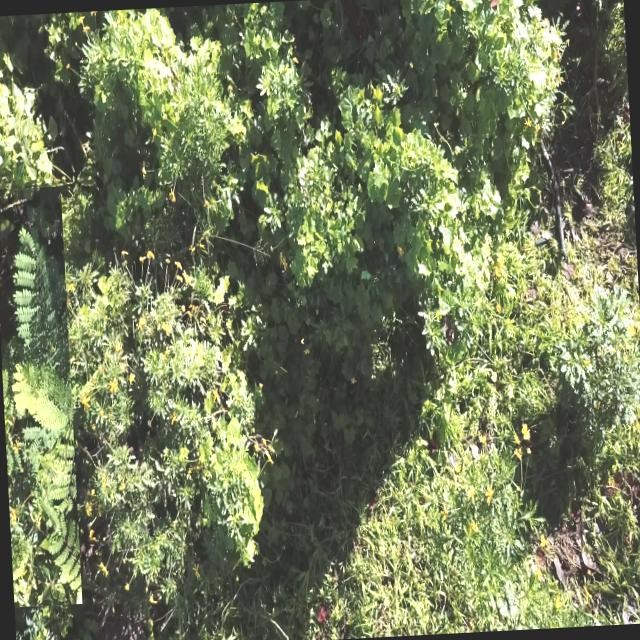Mysore-Thorn-Weed: (0, 186, 82, 607)
